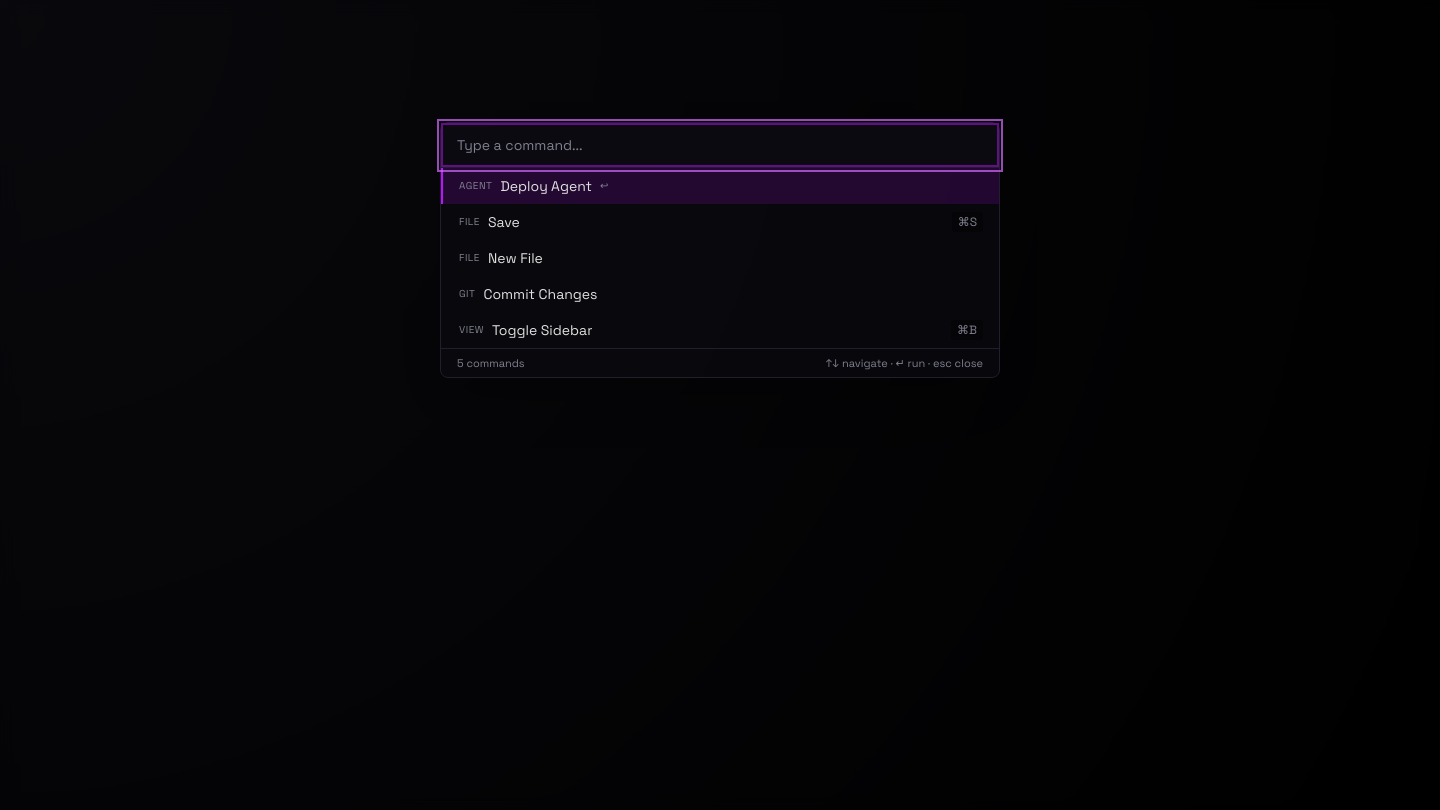
Test: CommandPalette › does not mark commands as recent while a query is active
The image size is (1440, 810).
In the field with test id "command-palette-input": (720,145) [441,122,999,168], type "deploy"
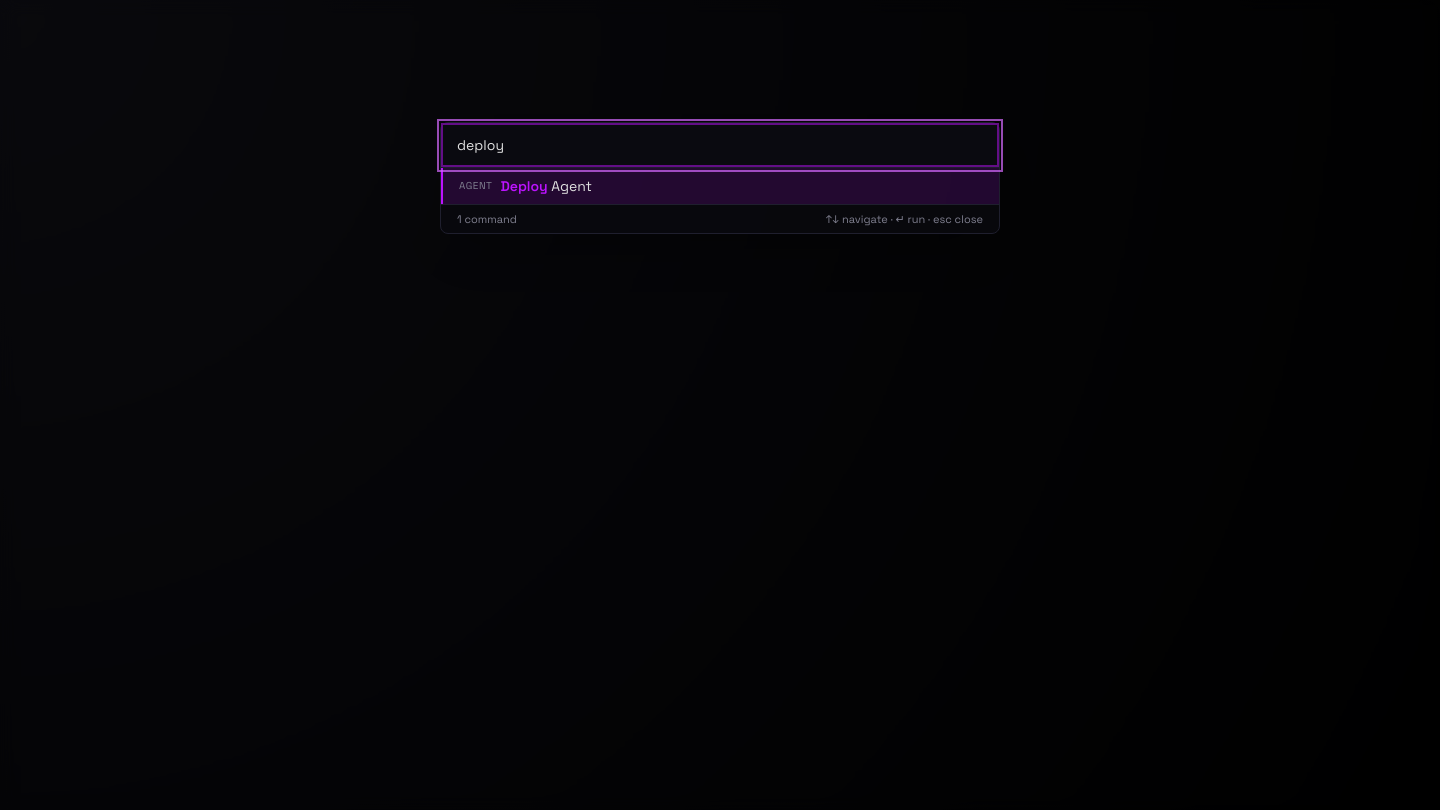
Check: the text with test id "command-recent" is gone
